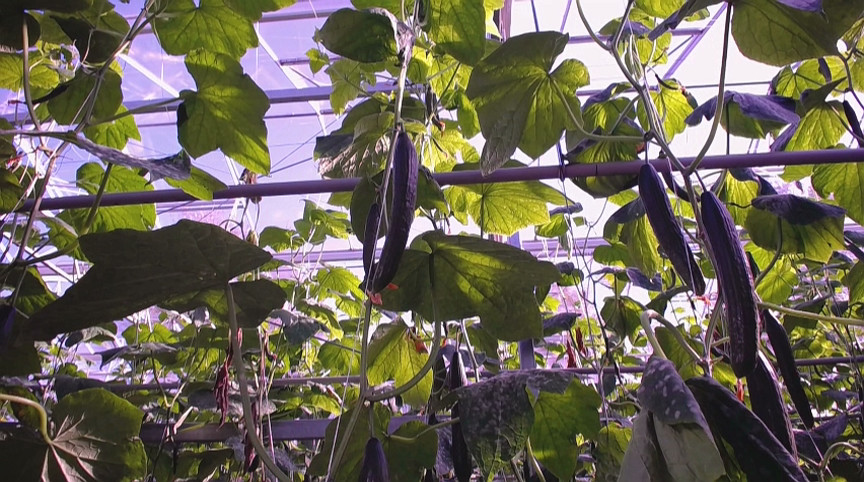cucumber: (700, 192, 755, 379), (637, 164, 707, 297), (764, 309, 816, 429), (377, 133, 415, 292), (747, 355, 800, 462), (450, 353, 473, 480), (362, 436, 389, 482)
